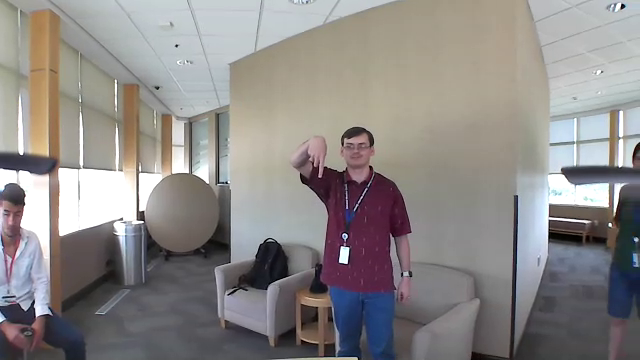down: (304, 134, 331, 181)
